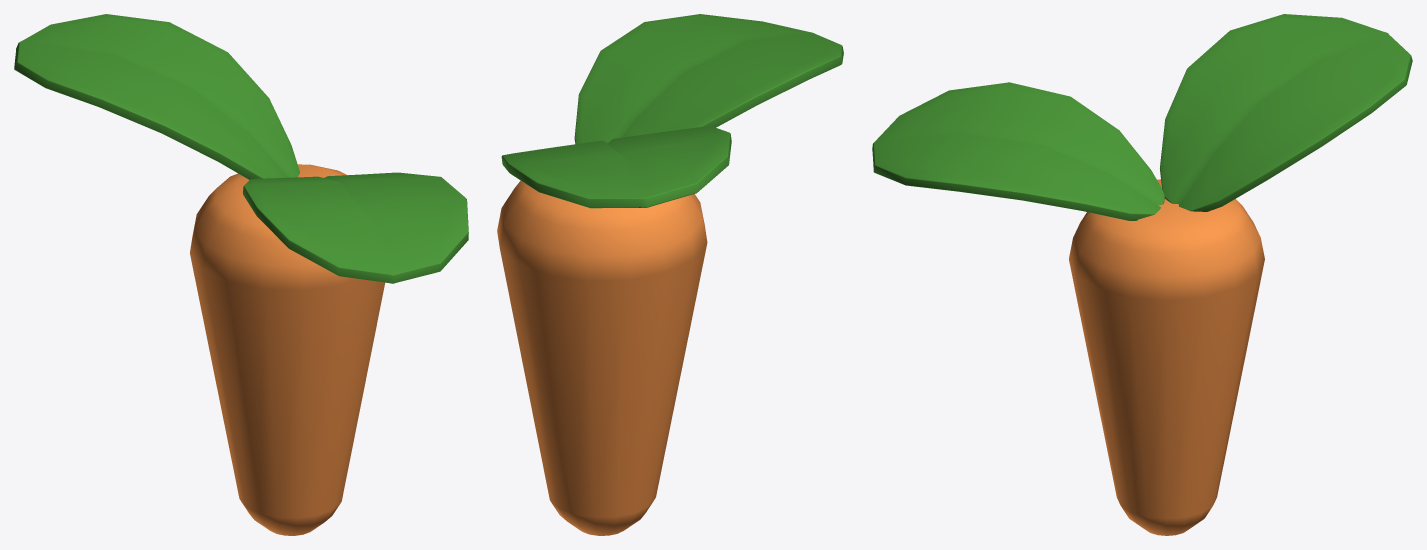
Rendered from Carrot_1.glb.
3 renders of one model, left to right at view 1: azimuth 30°, elevation 25°; view 2: azimuth 150°, elevation 25°; view 3: azimuth 270°, elevation 25°, orthographic. The views are drawn at different scales.
Visible parts, largest first — view 1: Carrot_1; view 2: Carrot_1; view 3: Carrot_1.
Part boxes in pixels (x1,y1,x2,y2): Carrot_1: [14, 14, 468, 535]; Carrot_1: [497, 14, 843, 535]; Carrot_1: [872, 14, 1412, 535].
Size of the model in its own units: 0.1882 by 0.2962 by 0.3363.
1 material, 1 textured.
